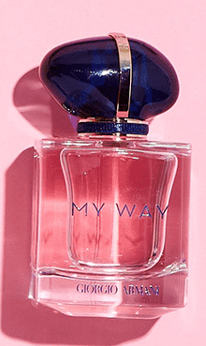armani_my_way_floral: (27, 36, 196, 319)
